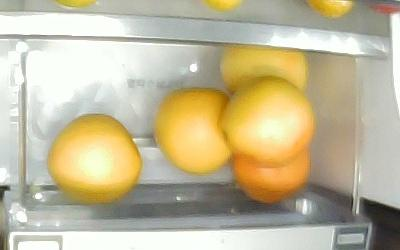grapefruit: (216, 74, 314, 168), (45, 111, 143, 203), (152, 85, 234, 174), (230, 146, 309, 203), (218, 45, 307, 94)
